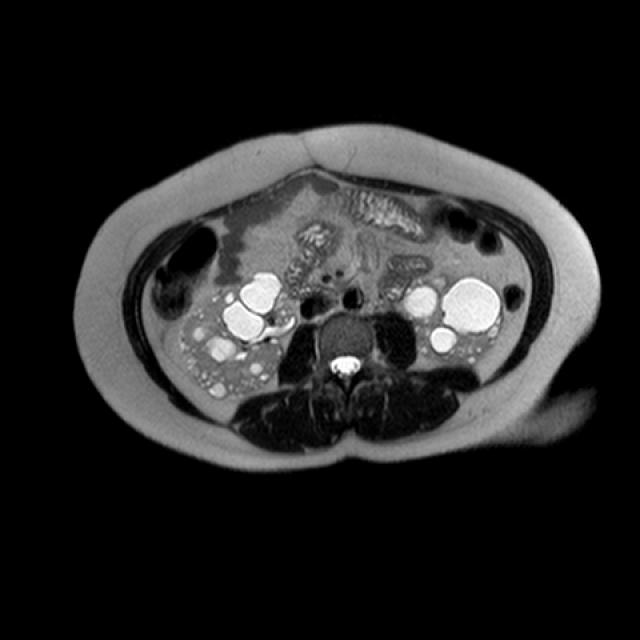sag: (180, 272, 299, 401)
sol: (389, 275, 503, 366)
